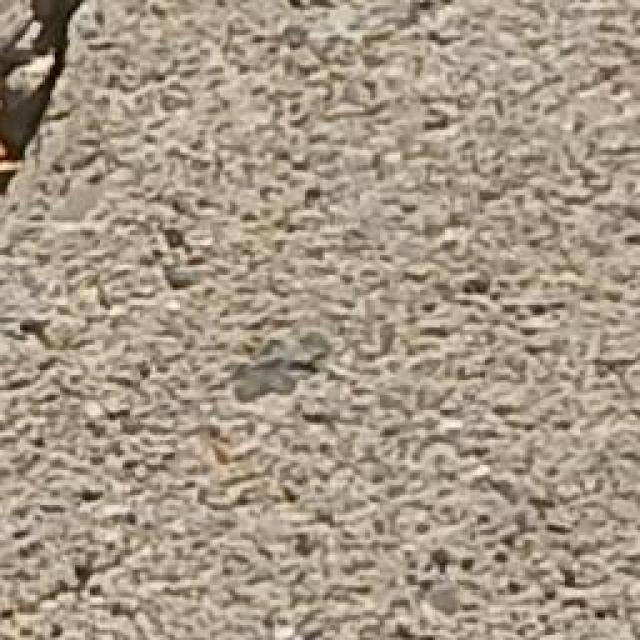concrete-crack: (0, 1, 106, 214)
